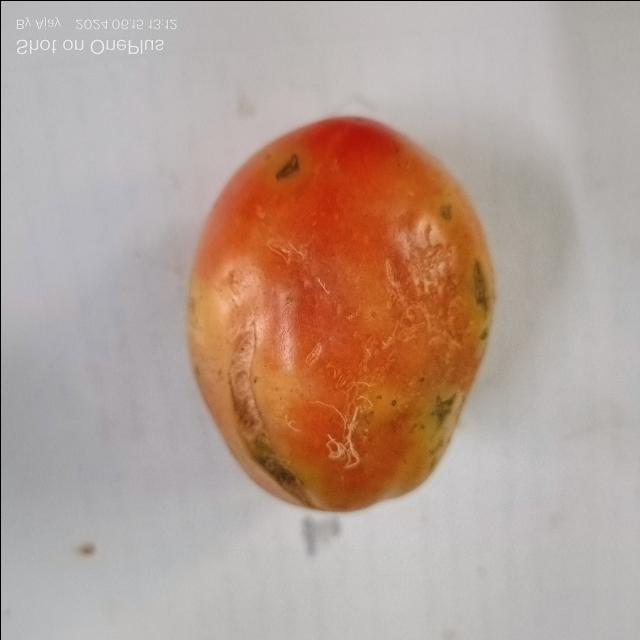Anthrocnose: (421, 212, 425, 219)
Bacterial_Spot: (470, 256, 490, 316), (274, 148, 304, 185), (430, 391, 456, 423)
